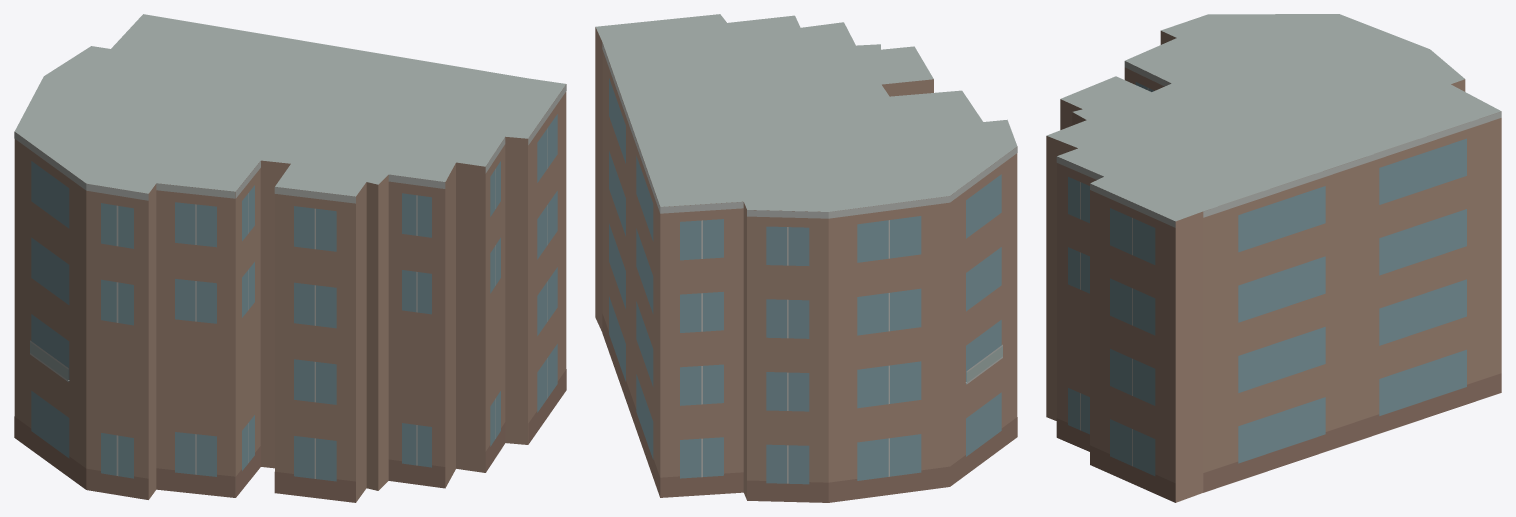
Rendered from survey-upis-32912122.glb.
3 views of the same model, side by side, from view 1: azimuth 30°, elevation 25°; view 2: azimuth 150°, elevation 25°; view 3: azimuth 270°, elevation 25° (orthographic). The views are drawn at different scales.
Parts seen in each view (by area): view 1: survey-upis-32912122.tmp; view 2: survey-upis-32912122.tmp; view 3: survey-upis-32912122.tmp.
Boxes of the visible parts, x1=… form: survey-upis-32912122.tmp: x1=14, y1=14, x2=566, y2=502; survey-upis-32912122.tmp: x1=595, y1=14, x2=1017, y2=502; survey-upis-32912122.tmp: x1=1046, y1=14, x2=1501, y2=502.
Size of the model in its own units: 16.79 by 10.6 by 15.55.
